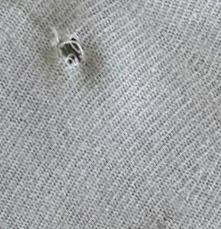hole: (56, 35, 90, 70)
